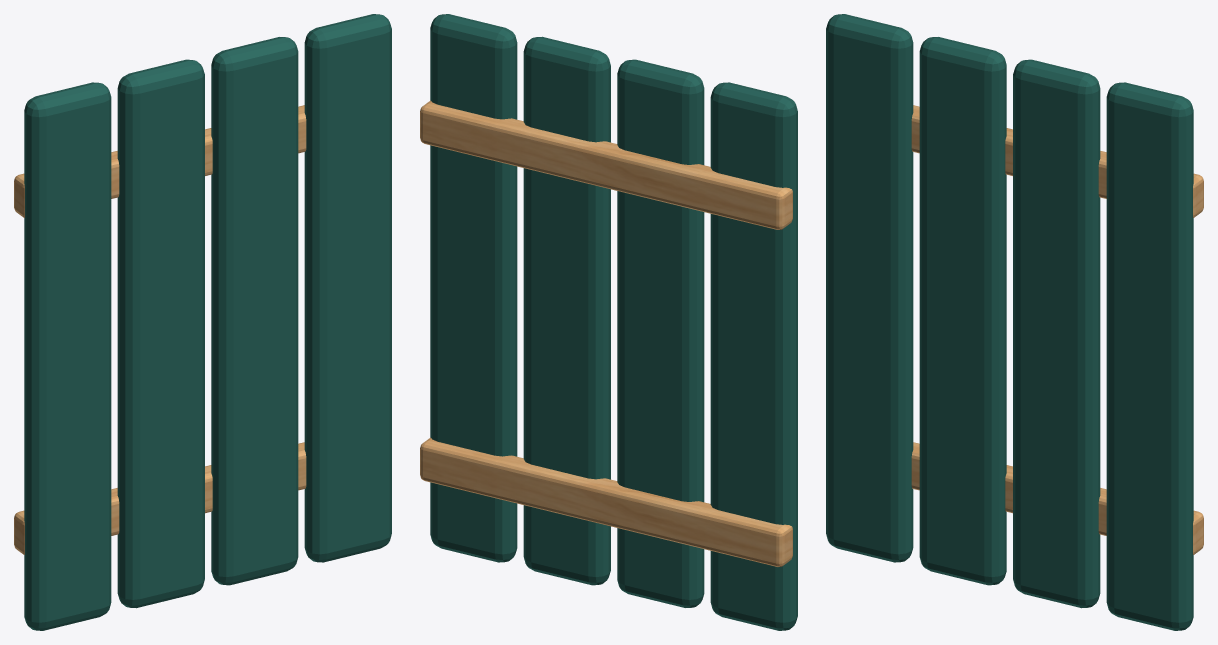
Rendered from playhouse_door.glb.
3 views of the same model, side by side, from view 1: azimuth 30°, elevation 25°; view 2: azimuth 150°, elevation 25°; view 3: azimuth 330°, elevation 25° (orthographic).
Parts seen in each view (by area): view 1: playhouse_door; view 2: playhouse_door; view 3: playhouse_door.
Boxes of the visible parts, x1,y1,x2,y2 form: playhouse_door: [14, 14, 391, 630]; playhouse_door: [420, 14, 797, 630]; playhouse_door: [826, 14, 1203, 630].
Bounding box in the file's own units: 0.7 × 0.98 × 0.0725.
Materials: 2 (1 with a texture image).
